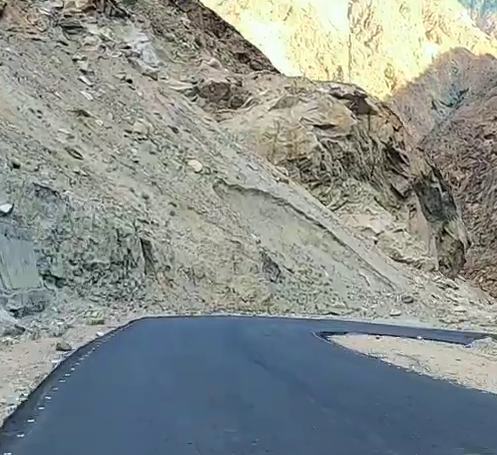stright: (69, 299, 429, 455)
